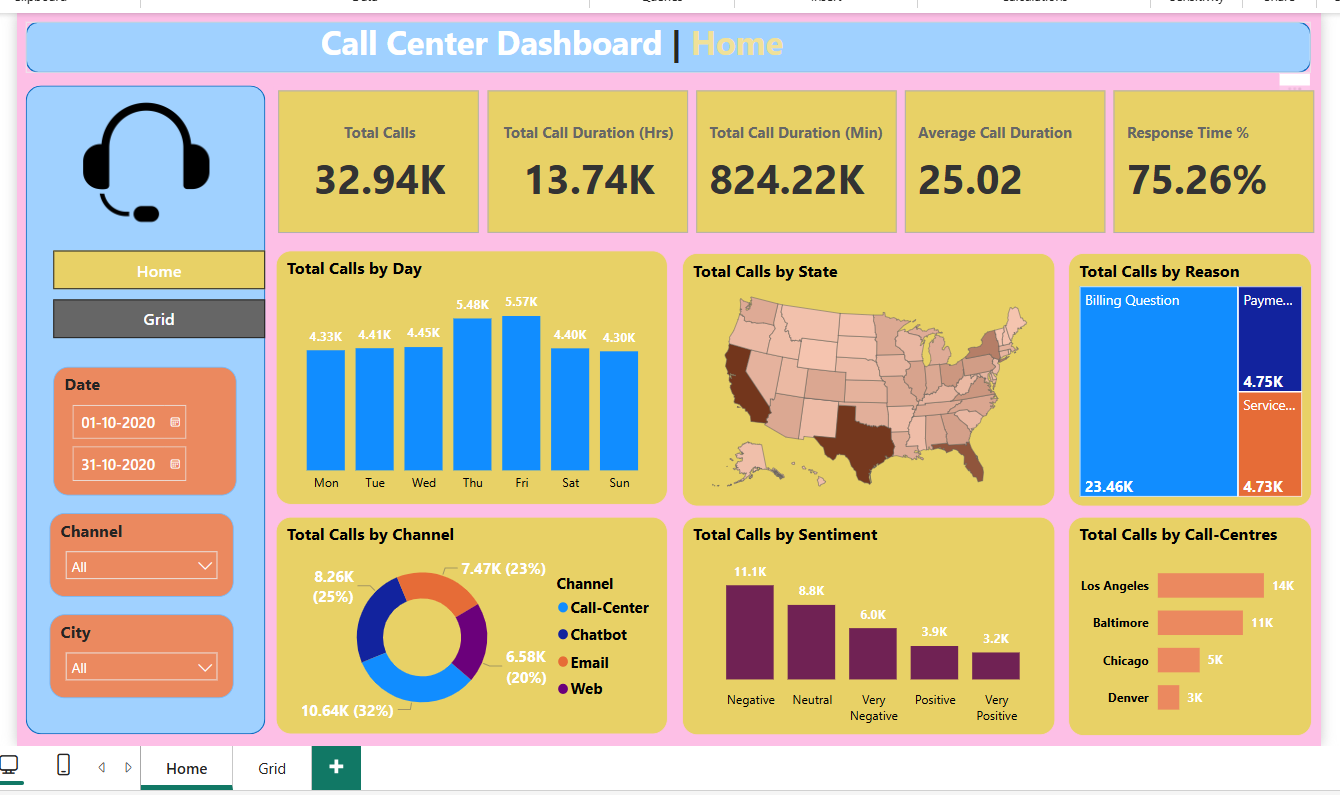

Layout of this report page (visuals, bound fields, positions):
{"tool":"powerbi","page":{"name":"Home","canvas":[1280,720],"ordinal":0},"visuals":[{"type":"shape","box":[8.6,8.6,1262,50],"z":0},{"type":"shape","box":[8.4,71.2,235.3,637],"z":1000},{"type":"cardVisual","fields":{"Data":["Call Center_Call Center.Total Calls","Call Center_Call Center.Total Call Duration (Hrs)","Call Center_Call Center.Total Call Duration (Min)","Call Center_Call Center.Average Call Duration","Call Center_Call Center.Response Time %"]},"box":[250.9,71.2,1029.1,150.8],"z":2000},{"type":"textbox","box":[293.2,2.4,472.9,61.5],"z":3000},{"type":"clusteredColumnChart","fields":{"Category":["Date table.Day"],"Y":["Call Center_Call Center.Total Calls"]},"box":[254.6,232.8,384.9,249.7],"z":4000},{"type":"shapeMap","fields":{"Category":["Call Center_Call Center.State"],"Value":["Call Center_Call Center.Total Calls"]},"box":[652.7,235.3,366.8,248.5],"z":5000},{"type":"treemap","fields":{"Group":["Call Center_Call Center.Reason"],"Values":["Call Center_Call Center.Total Calls"]},"box":[1031.5,235.3,238.9,248.5],"z":6000},{"type":"donutChart","fields":{"Category":["Call Center_Call Center.Channel"],"Y":["Call Center_Call Center.Total Calls"]},"box":[254.6,494.6,384.9,213.5],"z":7000},{"type":"columnChart","fields":{"Category":["Call Center_Call Center.Sentiment"],"Y":["Call Center_Call Center.Total Calls"]},"box":[652.7,494.6,366.8,214.7],"z":8000},{"type":"clusteredBarChart","title":"Total Calls by Call-Centres","fields":{"Category":["Call Center_Call Center.Call-Centres City"],"Y":["Call Center_Call Center.Total Calls"]},"box":[1032,495,239,215],"z":9000},{"type":"slicer","title":"Date","fields":{"Values":["Date table.Date"]},"box":[36.2,347,179.8,126.7],"z":10000},{"type":"slicer","title":"Channel","fields":{"Values":["Call Center_Call Center.Channel"]},"box":[31.4,490.5,181,82],"z":11000},{"type":"slicer","title":"City","fields":{"Values":["Call Center_Call Center.City"]},"box":[31.4,590.7,181,82],"z":12000},{"type":"image","box":[60.3,79.6,133.9,133.9],"z":13000},{"type":"pageNavigator","box":[35.7,233.3,208.6,87.8],"z":14000}]}

Visuals, with their boxes on the page's 1280x720 design canvas (x1, y1, x2, y2). These are canvas units, not pixel positions in the 1340x795 screenshot, which may show the page scaled, cropped or inside an application window:
shape: x1=9, y1=9, x2=1271, y2=59
shape: x1=8, y1=71, x2=244, y2=708
cardVisual - Call Center_Call Center.Total Calls x Call Center_Call Center.Total Call Duration (Hrs): x1=251, y1=71, x2=1280, y2=222
textbox: x1=293, y1=2, x2=766, y2=64
clusteredColumnChart - Date table.Day x Call Center_Call Center.Total Calls: x1=255, y1=233, x2=640, y2=482
shapeMap - Call Center_Call Center.State x Call Center_Call Center.Total Calls: x1=653, y1=235, x2=1020, y2=484
treemap - Call Center_Call Center.Reason x Call Center_Call Center.Total Calls: x1=1032, y1=235, x2=1270, y2=484
donutChart - Call Center_Call Center.Channel x Call Center_Call Center.Total Calls: x1=255, y1=495, x2=640, y2=708
columnChart - Call Center_Call Center.Sentiment x Call Center_Call Center.Total Calls: x1=653, y1=495, x2=1020, y2=709
"Total Calls by Call-Centres" clusteredBarChart: x1=1032, y1=495, x2=1271, y2=710
"Date" slicer: x1=36, y1=347, x2=216, y2=474
"Channel" slicer: x1=31, y1=490, x2=212, y2=572
"City" slicer: x1=31, y1=591, x2=212, y2=673
image: x1=60, y1=80, x2=194, y2=214
pageNavigator: x1=36, y1=233, x2=244, y2=321
